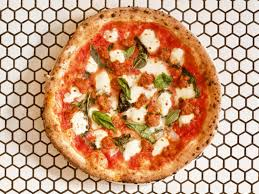pizza: (36, 5, 228, 181)
